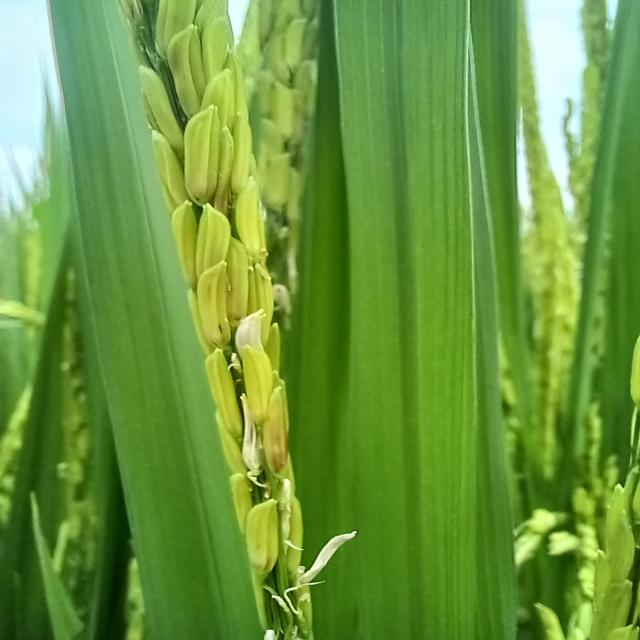HealthyLeaf: (47, 3, 275, 640), (321, 0, 520, 634)
